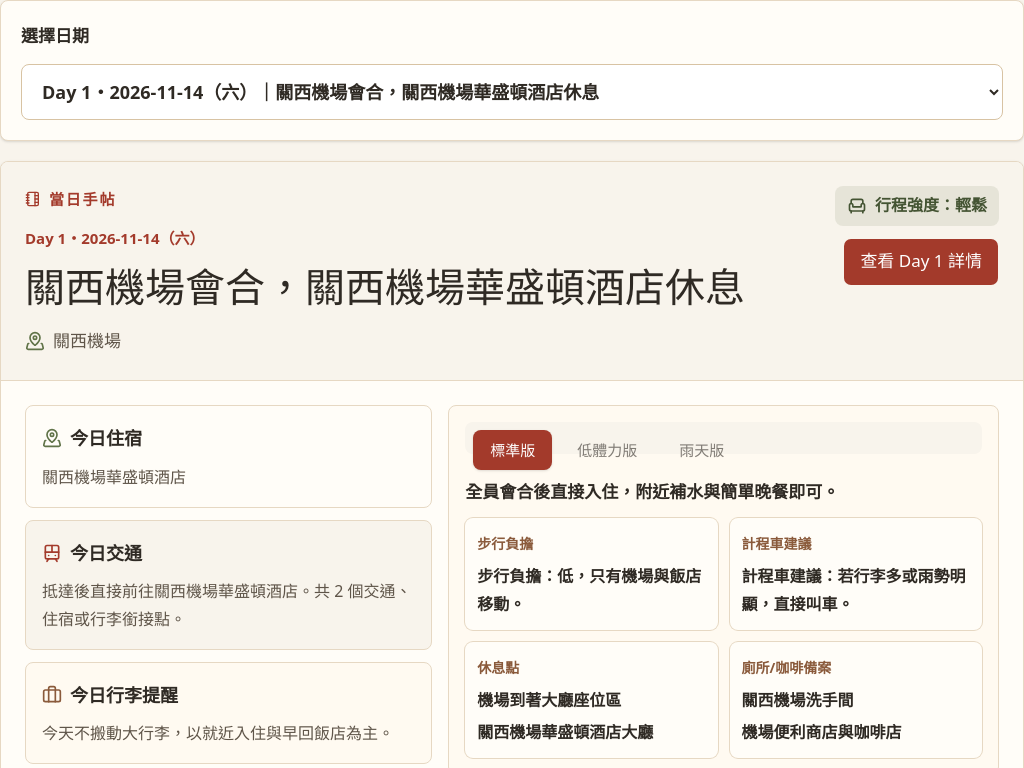
travel handbook design refresh › shows each selected itinerary day as a daily travel note
Expected: the text "當日手帖" is shown, [25,186,116,213]
Expected: the text "今日交通" is shown, [42,541,142,565]
Select "Day 5・2026-11-18（三）｜兼六園、近江町市場，午後進溫泉" in the dropdown labelled "選擇日期" at [512, 92], box [21,64,1003,120]
(page scrolled)
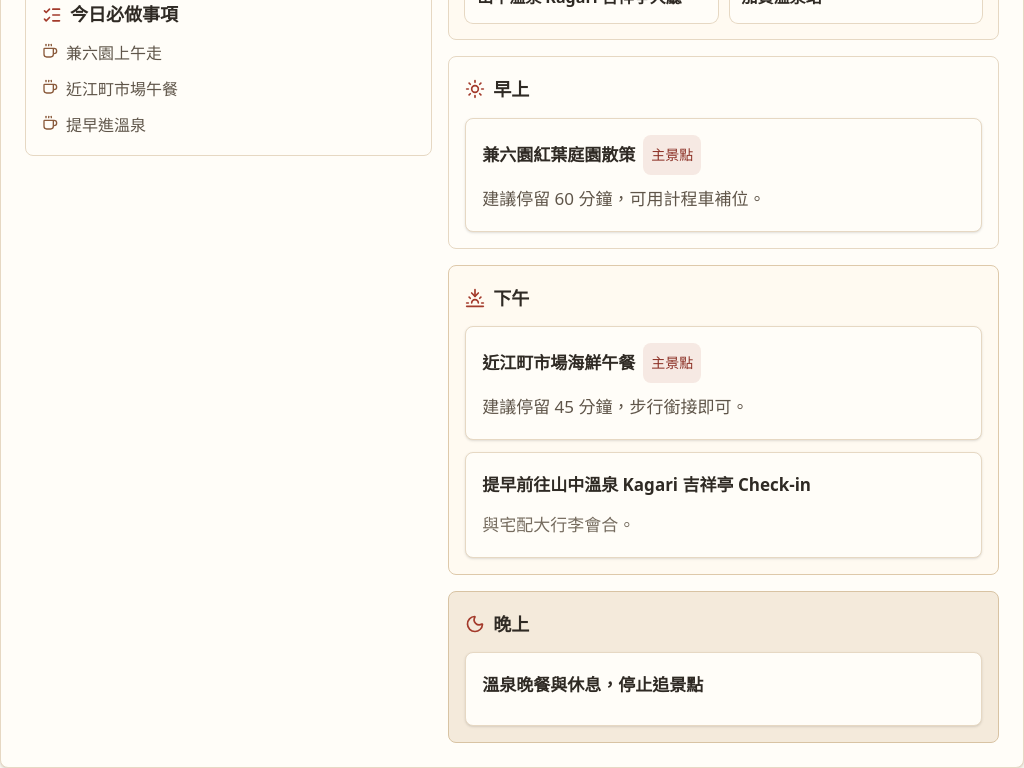
Now the text "提早前往山中溫泉 Kagari 吉祥亭 Check-in" is shown, box [482,469,811,501]
